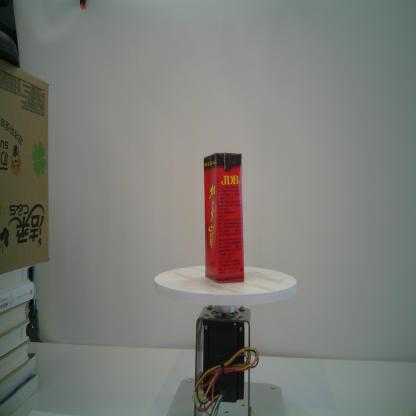Drink: (202, 151, 245, 284)
